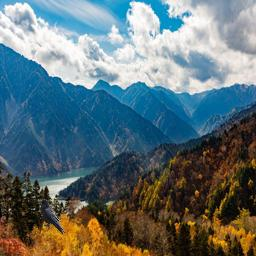Crow: (38, 199, 65, 235)
